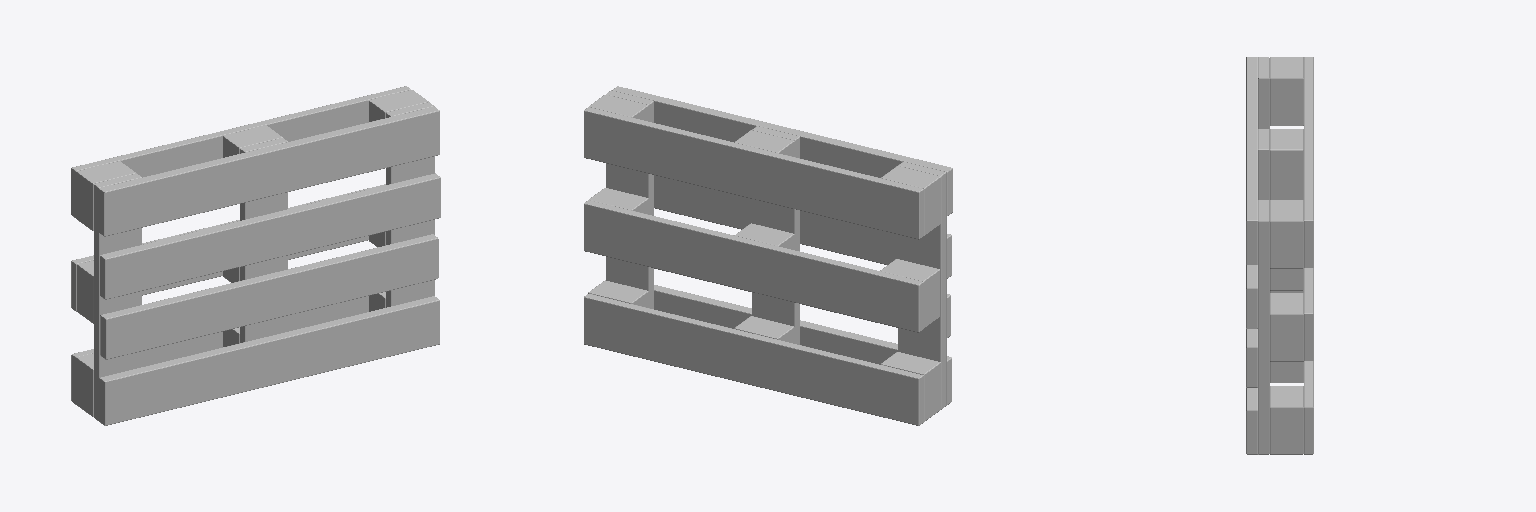
File: pallet_1_simple.obj
3 views of the same model, side by side, from view 1: azimuth 30°, elevation 25°; view 2: azimuth 150°, elevation 25°; view 3: azimuth 270°, elevation 25° (orthographic).
Size of the model in its own units: 120 by 80.04 by 20.86.